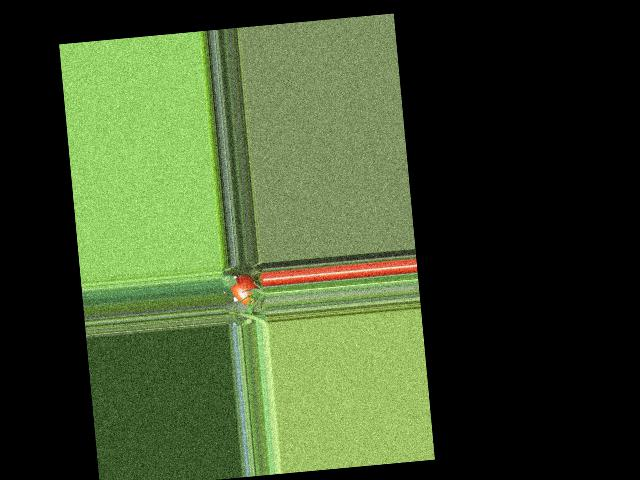tomato: (230, 273, 258, 305)
